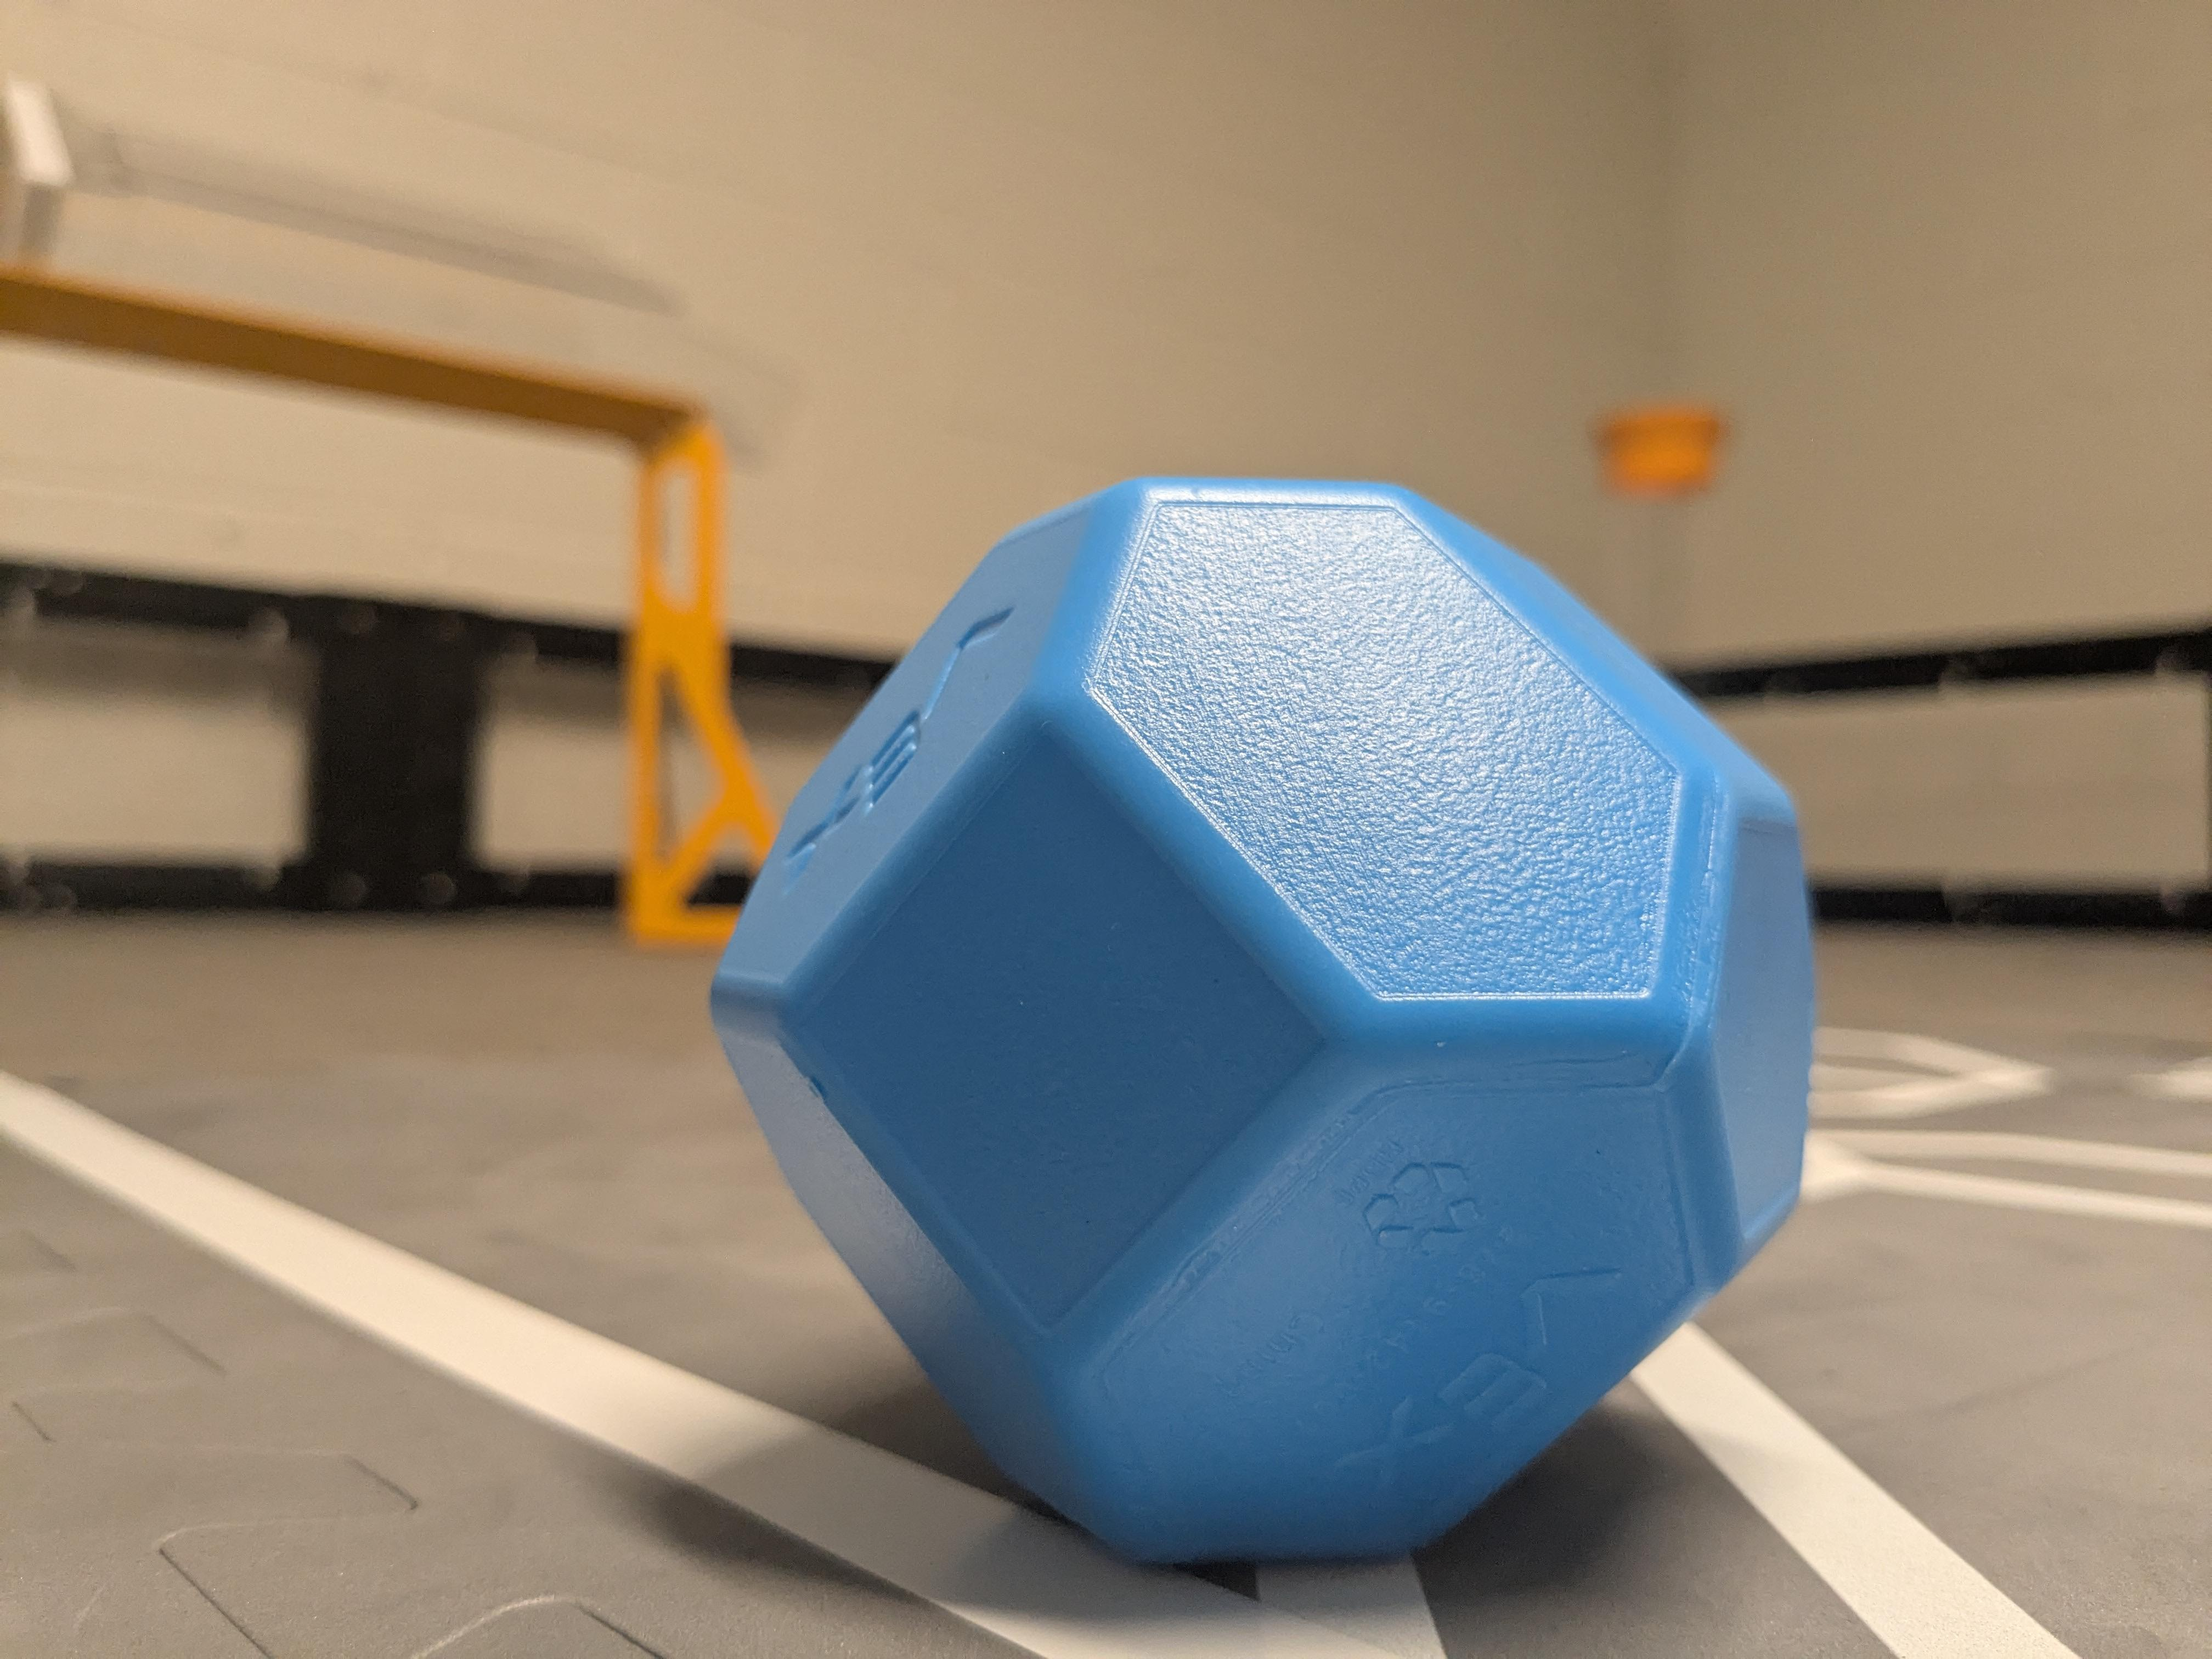Vex-Pieces-BLUE: (712, 479, 1813, 1563)
